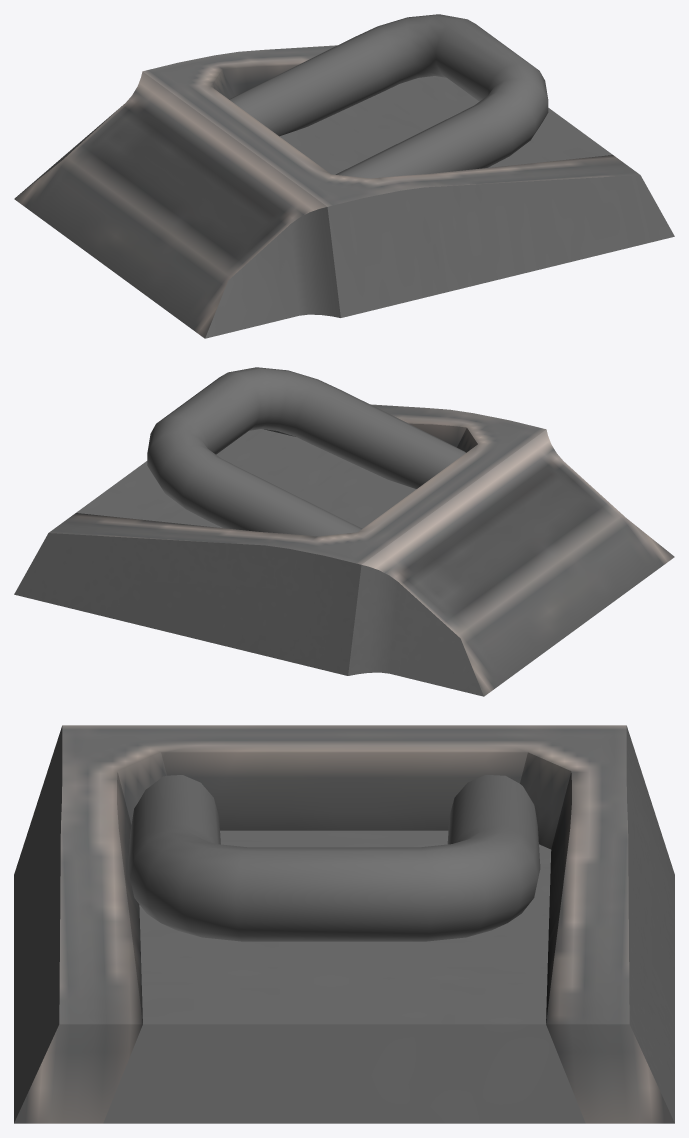
The model's file is Prop_Clamp.gltf.
3 views of the same model, one above another, from view 1: azimuth 30°, elevation 25°; view 2: azimuth 150°, elevation 25°; view 3: azimuth 270°, elevation 25° (orthographic). The views are drawn at different scales.
Parts seen in each view (by area): view 1: Prop_Clamp; view 2: Prop_Clamp; view 3: Prop_Clamp.
Boxes of the visible parts, x1,y1,x2,y2 form: Prop_Clamp: [14, 14, 674, 338]; Prop_Clamp: [14, 367, 674, 696]; Prop_Clamp: [14, 725, 674, 1123].
Size of the model in its own units: 0.5605 by 0.1617 by 0.4602.
2 materials, 2 textured.
